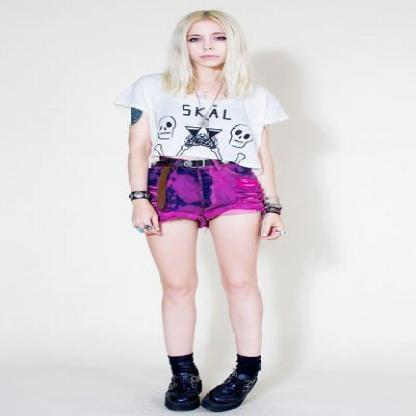shirt: (126, 71, 286, 167)
shoe: (165, 353, 260, 410)
shorts: (129, 159, 281, 229)
